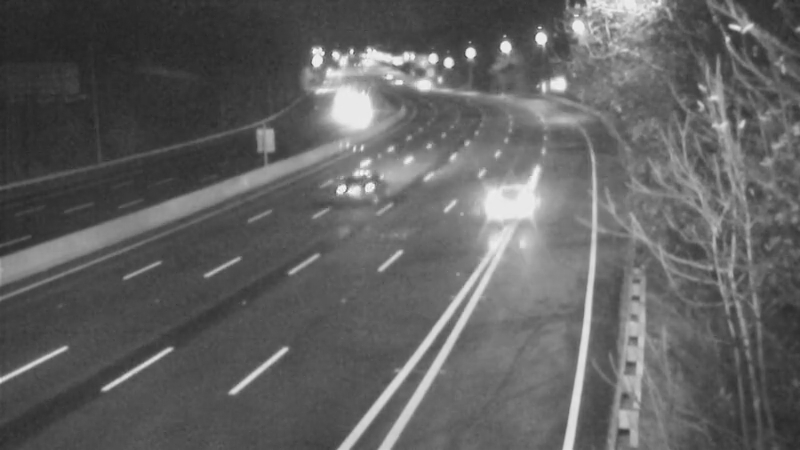vehicle: (465, 164, 545, 244), (311, 143, 391, 223), (396, 57, 446, 107), (326, 84, 376, 134)
